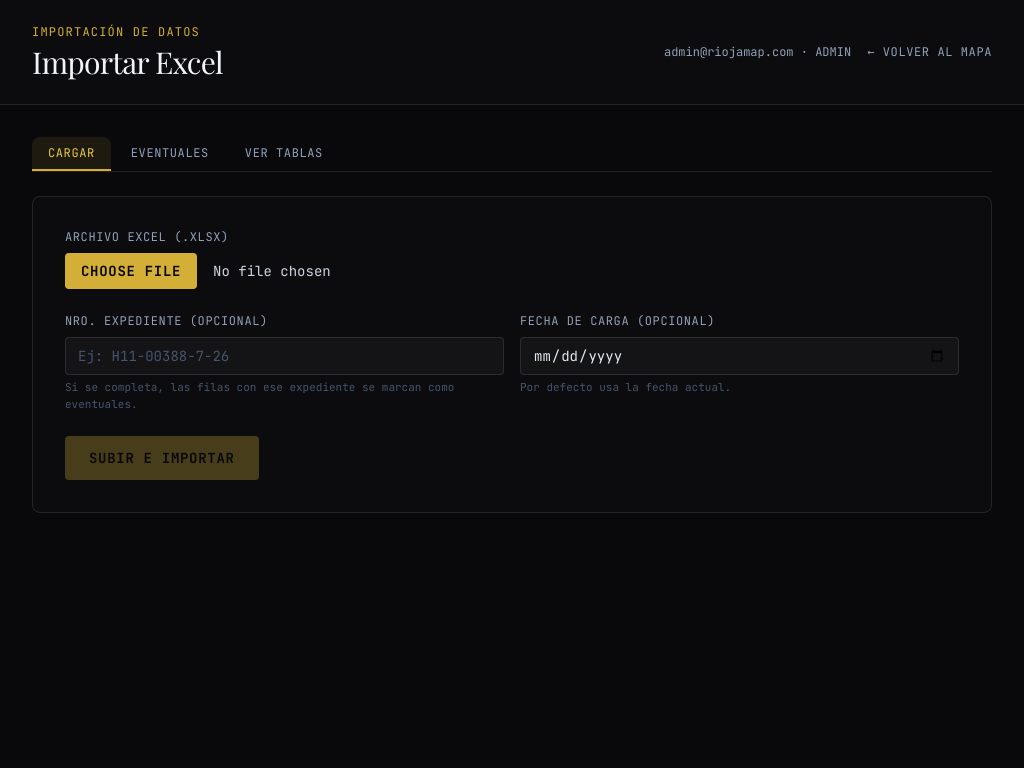
Test case: ImportPage — tabs › renders Cargar / Ver tablas tabs and mounts the table browser
The image size is (1024, 768).
Check: the button "Cargar" is shown, box [32,137,111,171]
Click the button "Ver tablas". click: (284, 154)
box: [229,137,339,171]
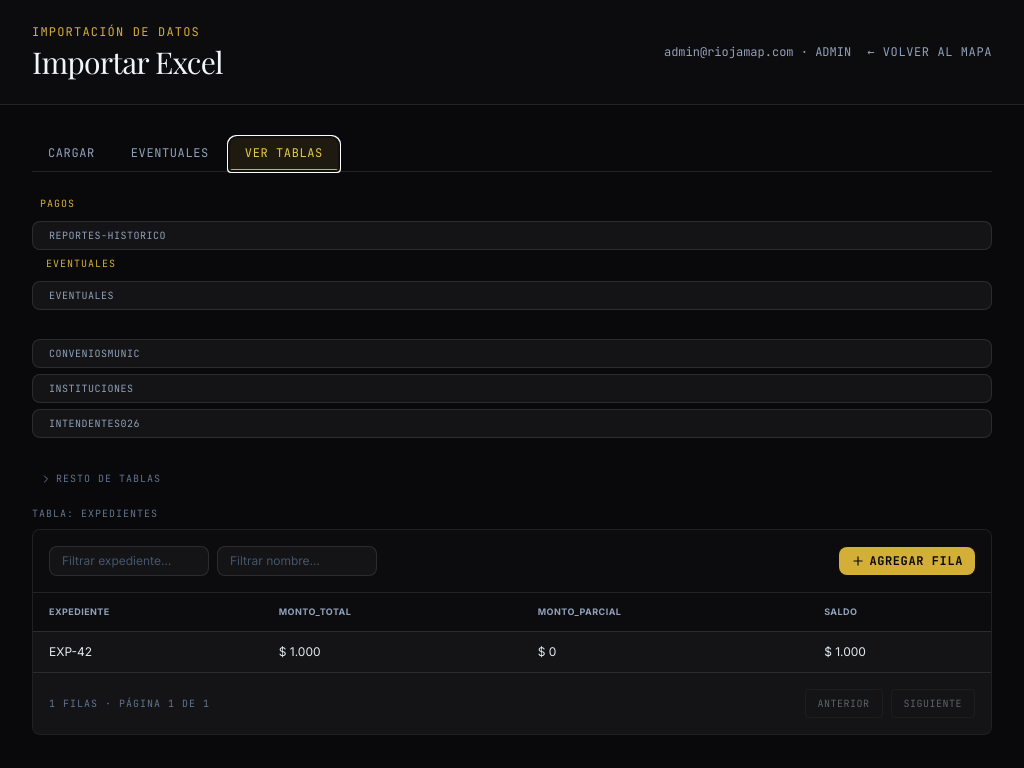
Check: the button "conveniosMunic" is shown, box [32,339,992,368]
Check: the button "Agregar fila" is shown, box [839,547,975,575]
